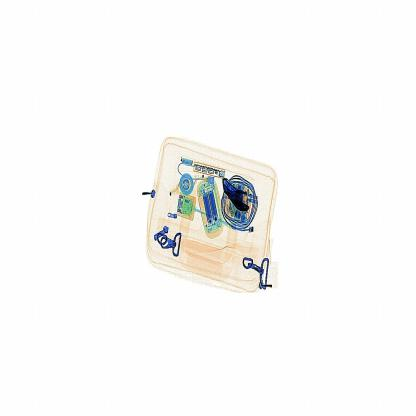pliers: (214, 170, 258, 222)
